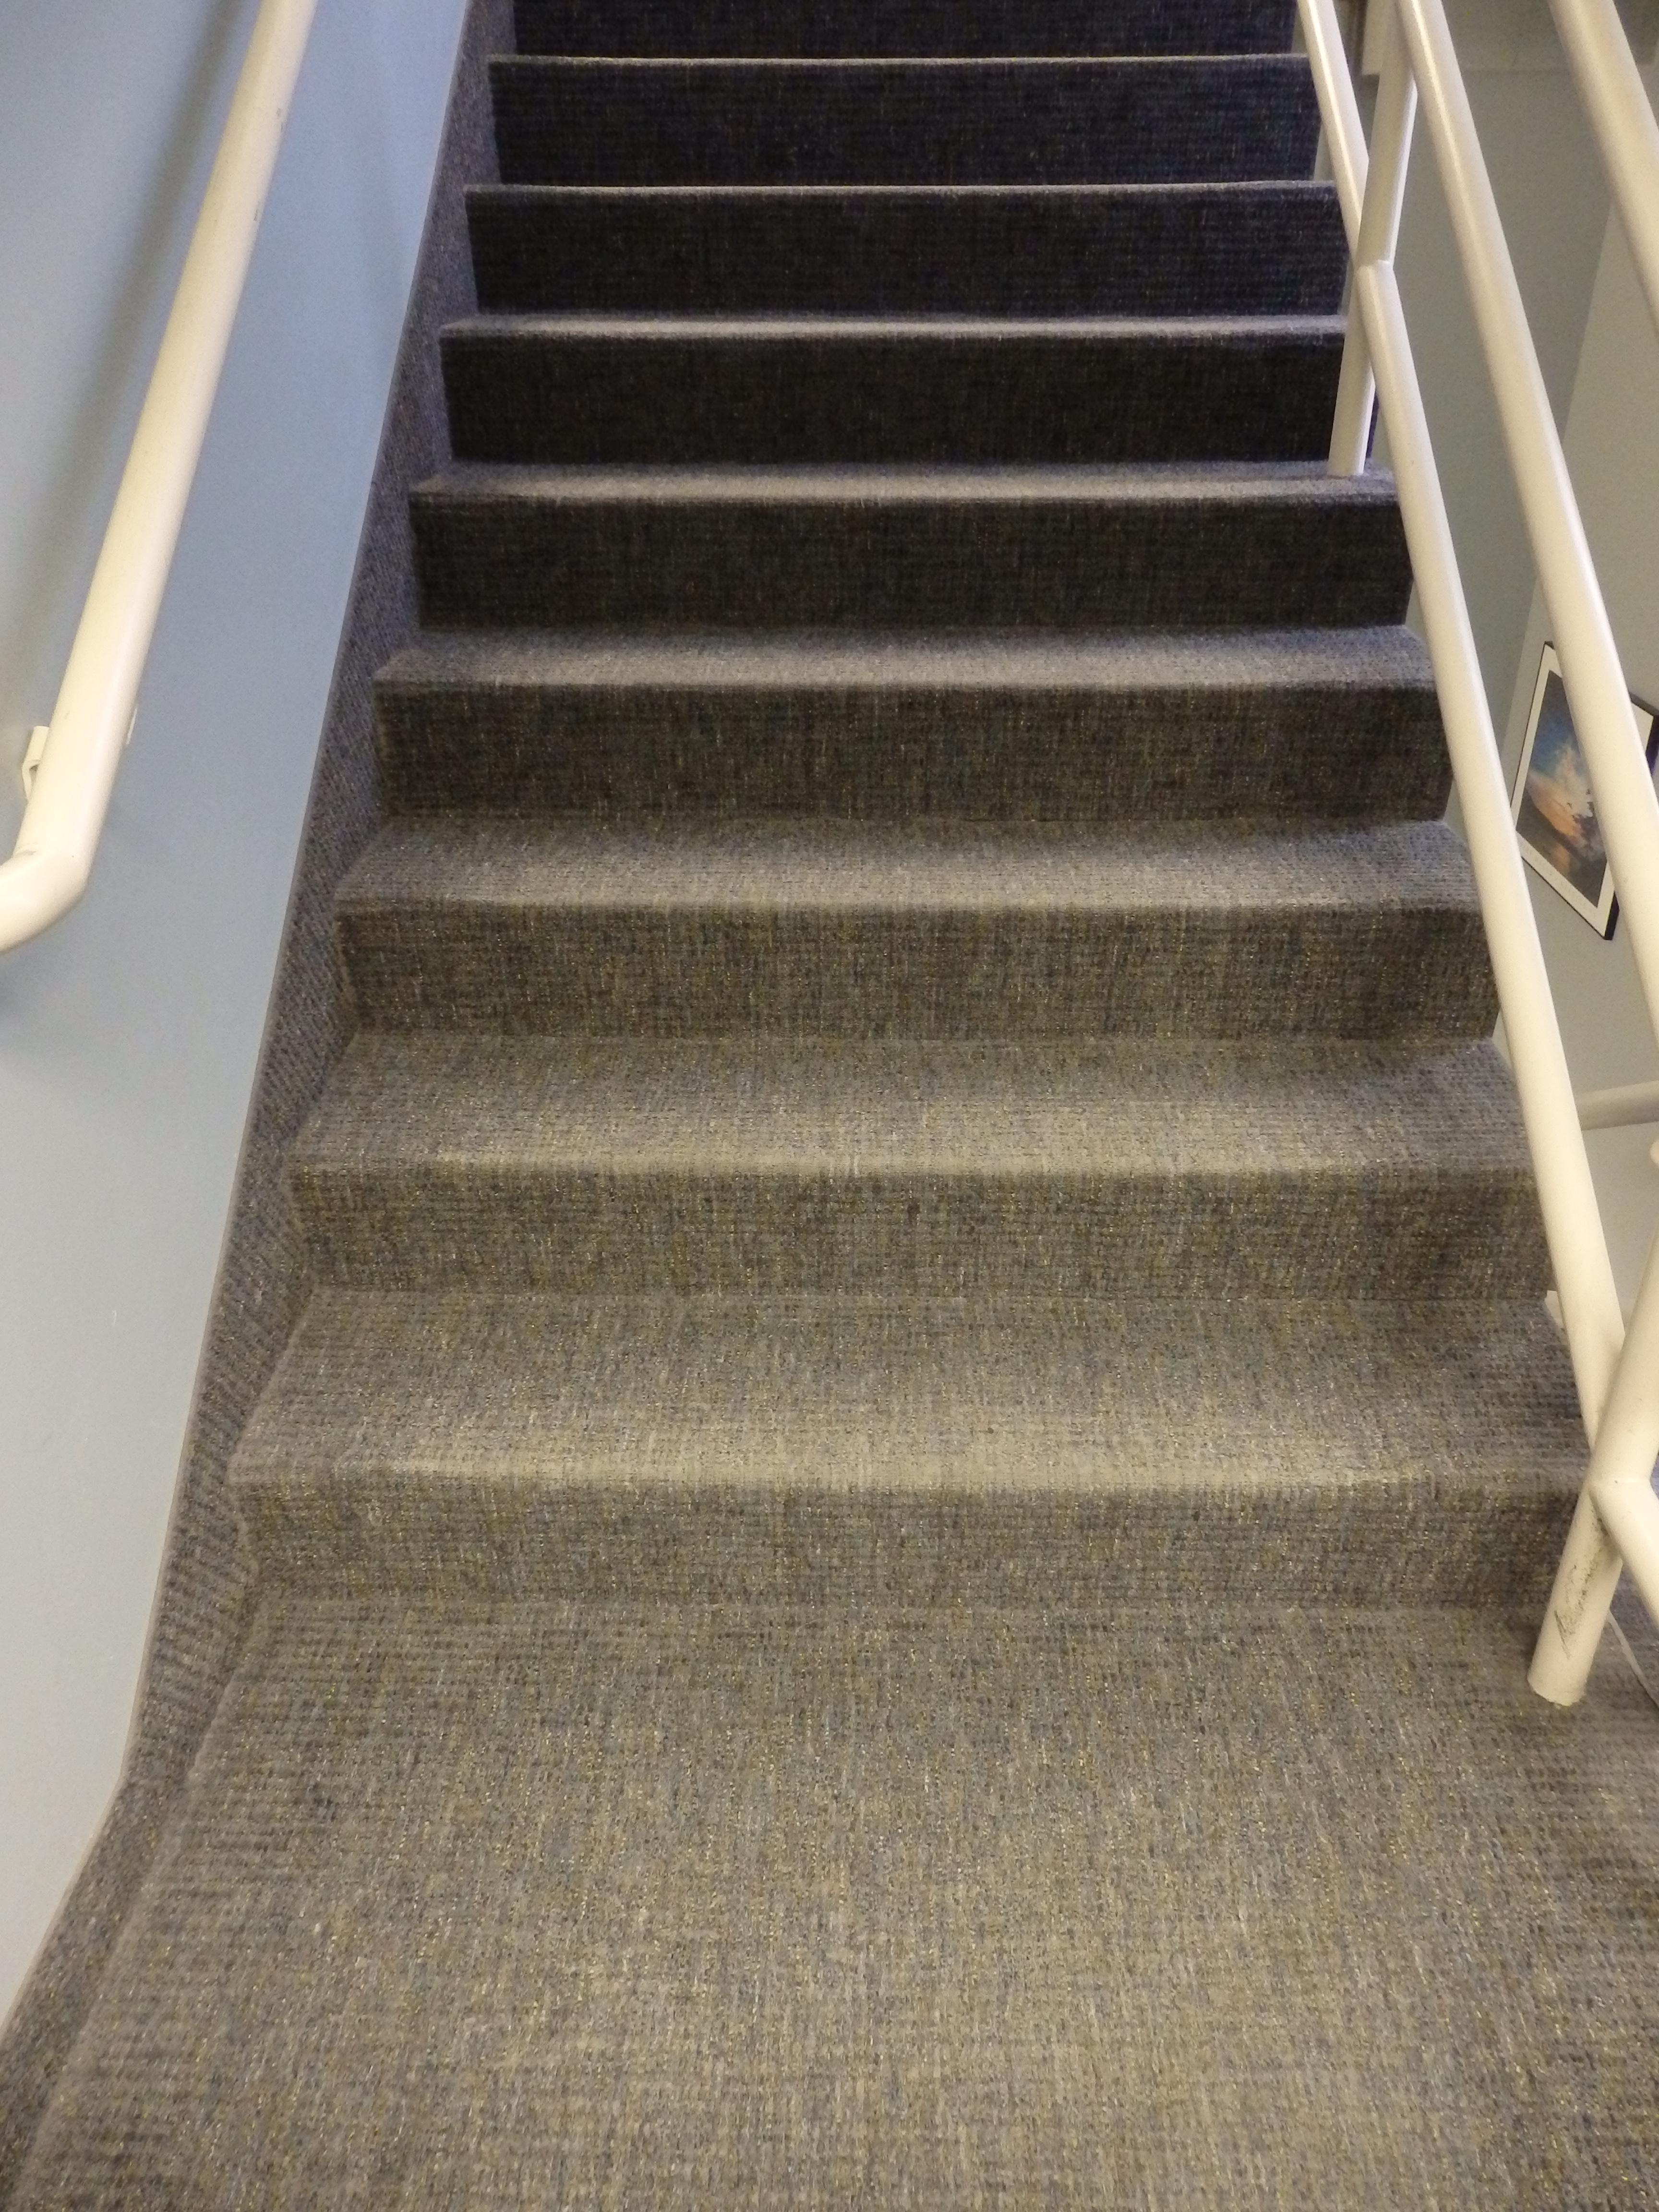stairs_up: (303, 49, 1572, 1609)
